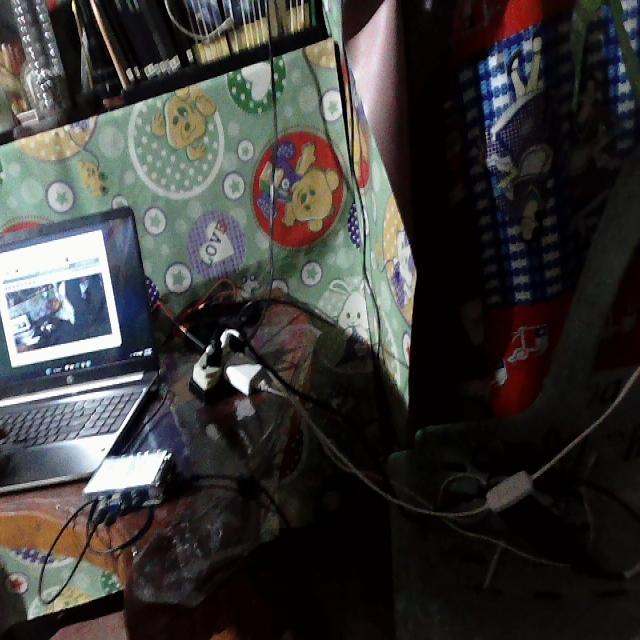-: (181, 304, 284, 403)
